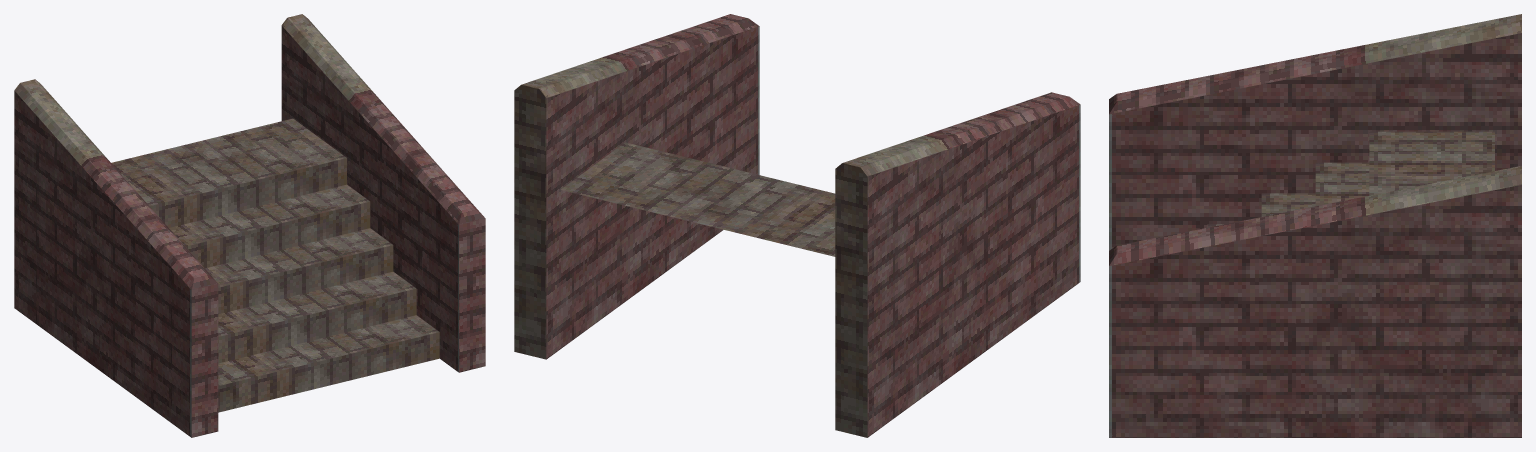
The model's file is stair_03.gltf.
3 views of the same model, side by side, from view 1: azimuth 30°, elevation 25°; view 2: azimuth 150°, elevation 25°; view 3: azimuth 270°, elevation 25° (orthographic). The views are drawn at different scales.
Parts seen in each view (by area): view 1: stair_03, Cube.001; view 2: stair_03, Cube.001; view 3: stair_03, Cube.001.
Boxes of the visible parts, box(x1,y1,x2,y2) form: stair_03: box(14, 14, 485, 437); Cube.001: box(111, 118, 439, 412); stair_03: box(514, 14, 1080, 437); Cube.001: box(560, 142, 835, 256); stair_03: box(1109, 14, 1521, 437); Cube.001: box(1207, 131, 1494, 227).
Bounding box in the file's own units: 2.2 × 1.6 × 2.3.
Materials: 1 (1 with a texture image).
